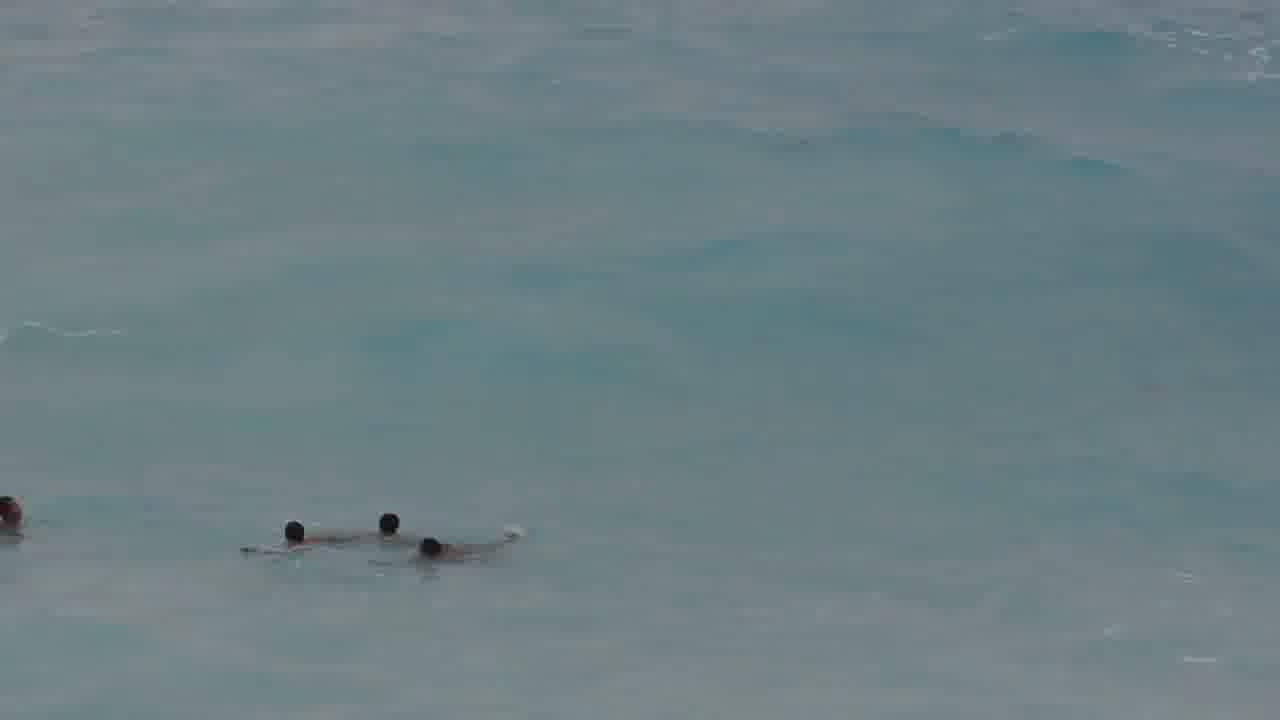human: (235, 515, 349, 554), (412, 529, 518, 567), (359, 504, 420, 545), (0, 488, 33, 536)
